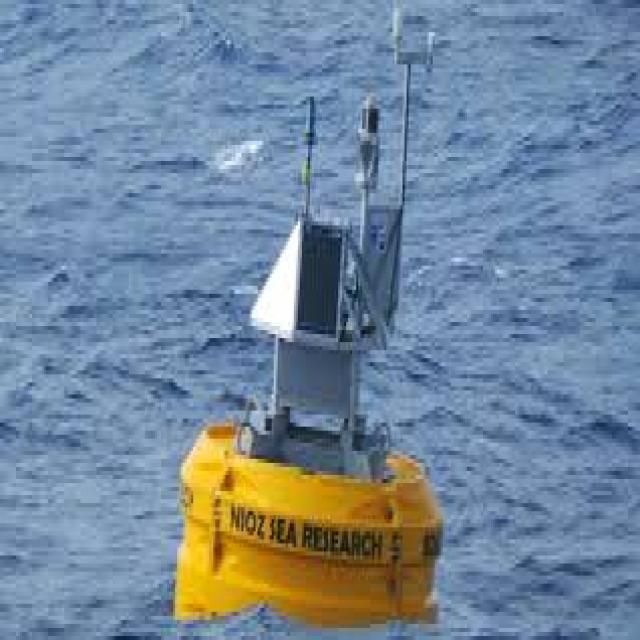buoy: (178, 150, 438, 618)
